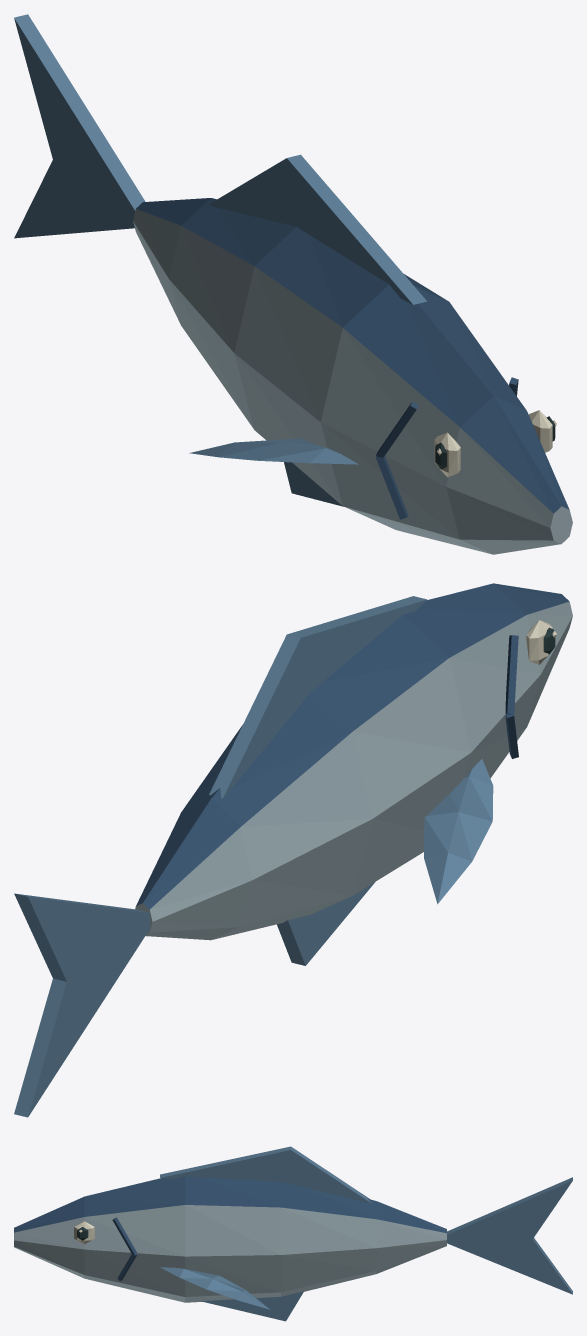
File: fish_coldtrout.glb
The picture shows the model from 3 angles, top to bottom: view 1: azimuth 30°, elevation 25°; view 2: azimuth 150°, elevation 25°; view 3: azimuth 270°, elevation 25°; orthographic projection. The views are drawn at different scales.
Parts seen in each view (by area): view 1: fish; view 2: fish; view 3: fish.
Boxes of the visible parts, left/top/right/bottom form: fish: left=14, top=14, right=572, bottom=554; fish: left=14, top=583, right=572, bottom=1117; fish: left=14, top=1146, right=572, bottom=1321.
Size of the model in its own units: 0.2525 by 0.3156 by 0.9324.
